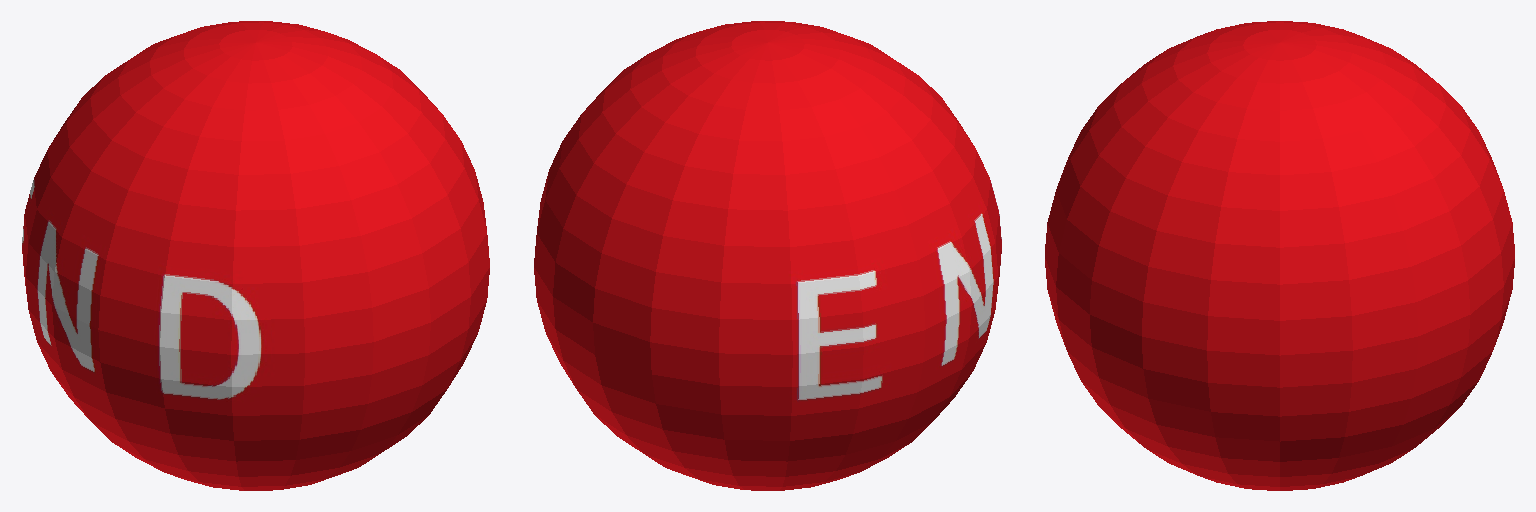
3 views of the same model, side by side, from view 1: azimuth 30°, elevation 25°; view 2: azimuth 150°, elevation 25°; view 3: azimuth 270°, elevation 25° (orthographic).
Visible parts, largest first — view 1: pSphere1; view 2: pSphere1; view 3: pSphere1.
Boxes of the visible parts, x1,y1,x2,y2 form: pSphere1: [22, 21, 489, 490]; pSphere1: [534, 21, 1001, 490]; pSphere1: [1045, 21, 1514, 490].
Bounding box in the file's own units: 0.6 × 0.6 × 0.6.
Materials: 1 (1 with a texture image).